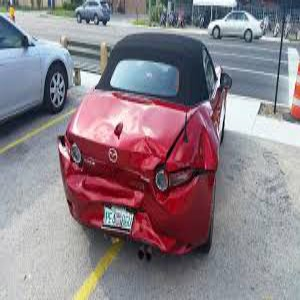bumper: (136, 189, 206, 257)
